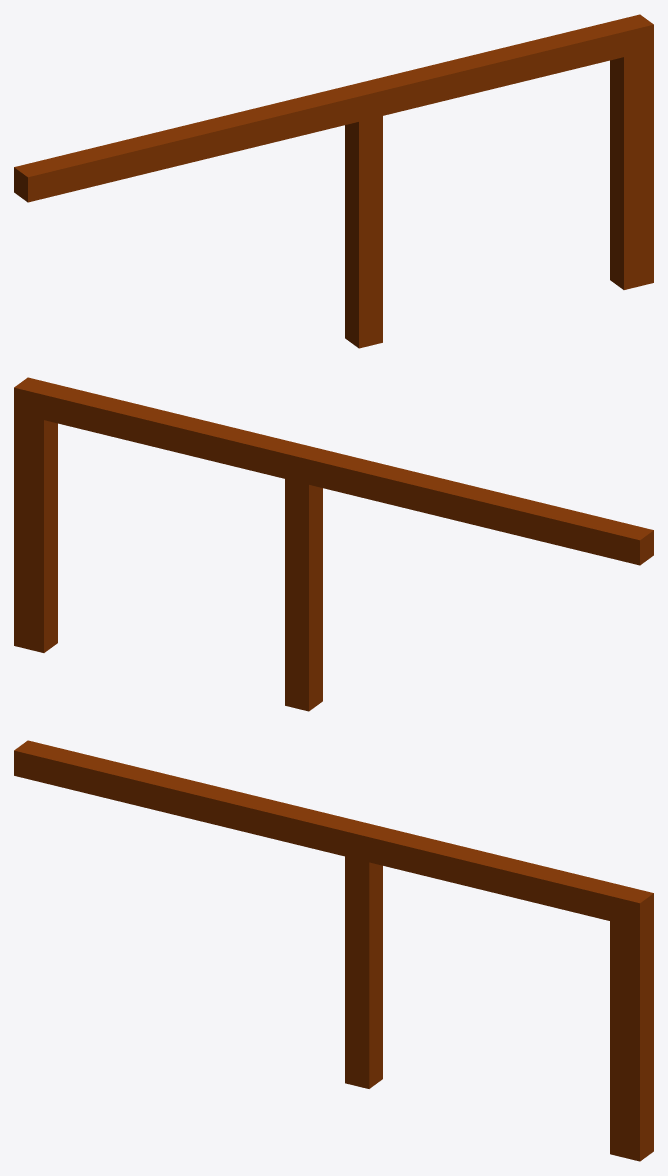
The model's file is Support Beam.fbx.
3 renders of one model, top to bottom at view 1: azimuth 30°, elevation 25°; view 2: azimuth 150°, elevation 25°; view 3: azimuth 330°, elevation 25°, orthographic.
Parts seen in each view (by area): view 1: SupportBeams; view 2: SupportBeams; view 3: SupportBeams.
Part boxes in pixels (bbox=[...]): SupportBeams: bbox=[14, 14, 653, 348]; SupportBeams: bbox=[14, 377, 653, 711]; SupportBeams: bbox=[14, 740, 653, 1161].
Size of the model in its own units: 26 by 10.25 by 1.
